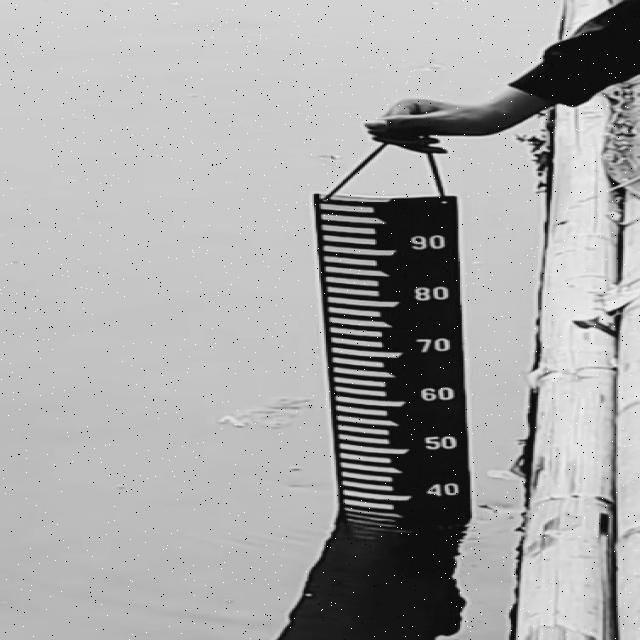40: (426, 479, 463, 499)
50: (422, 435, 458, 452)
60: (419, 386, 458, 402)
70: (416, 334, 454, 357)
80: (409, 284, 453, 306)
90: (405, 231, 451, 252)
staff: (317, 195, 474, 527)
